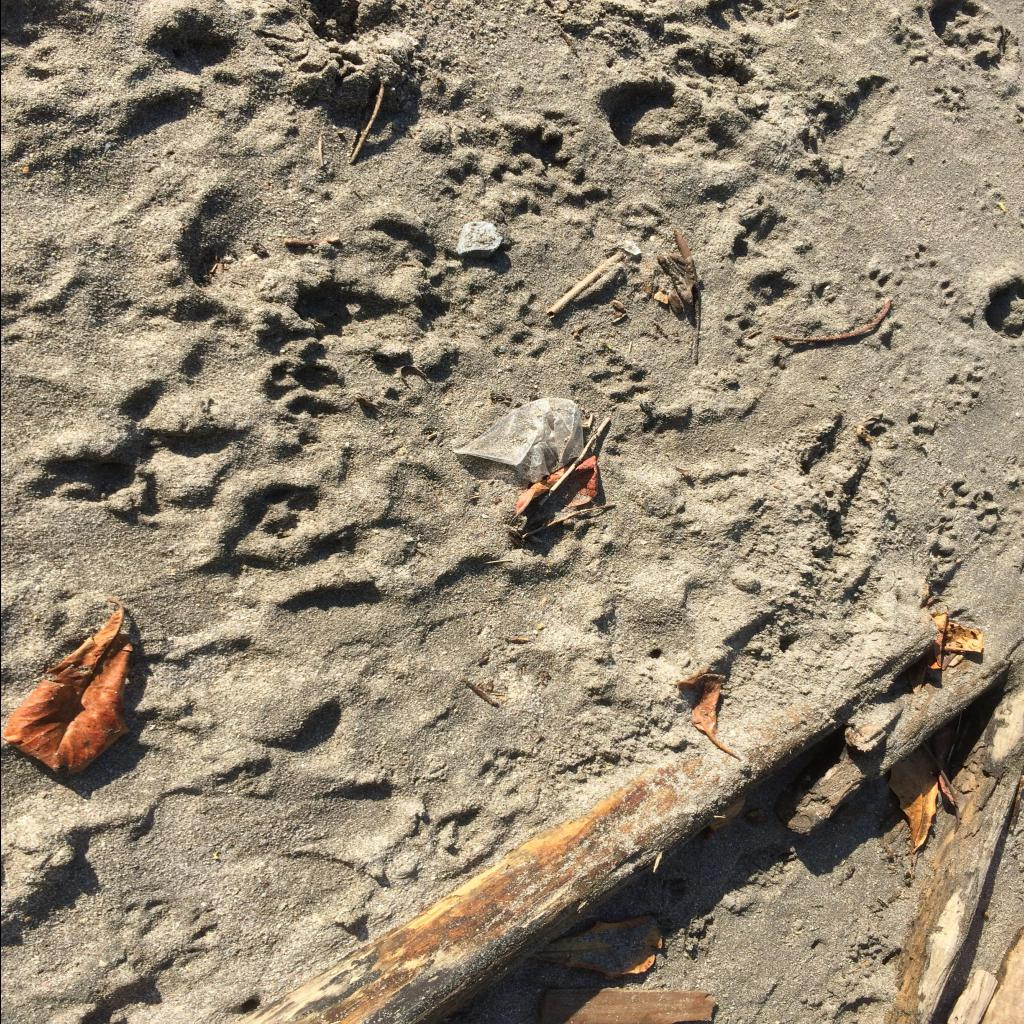Plastic film: (451, 398, 583, 482)
